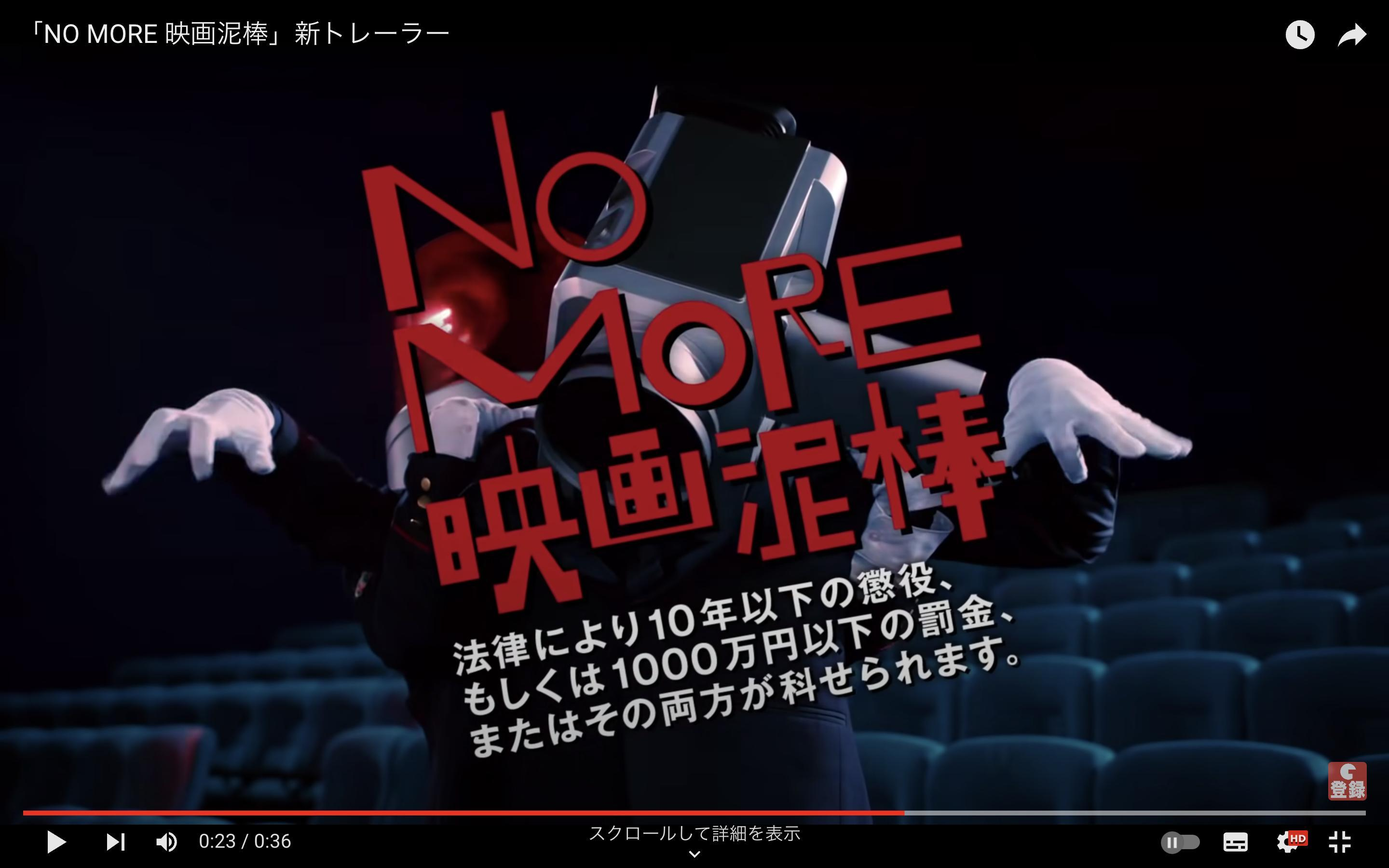no more kid: (537, 77, 991, 524)
